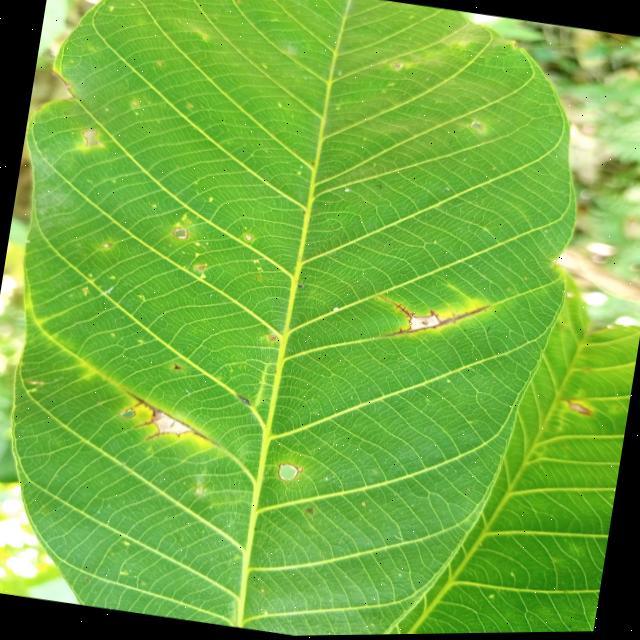Colletotrichum: (276, 463, 300, 484), (172, 227, 190, 241), (268, 335, 278, 343), (244, 236, 253, 243)
Corynespora: (372, 289, 490, 355), (120, 391, 226, 453), (375, 295, 417, 321), (133, 417, 155, 432), (146, 430, 164, 443)
Leaf-Blight: (152, 412, 194, 439), (410, 313, 440, 336)
